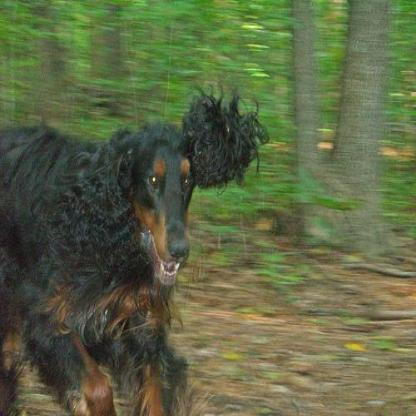Gordon_setter: (0, 67, 271, 414)
